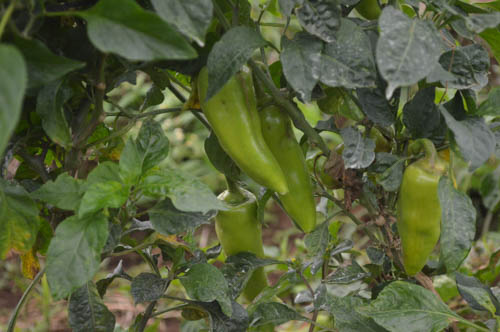ChiliPepper: (203, 67, 288, 196), (259, 101, 318, 234), (393, 162, 453, 281), (220, 193, 266, 302)
